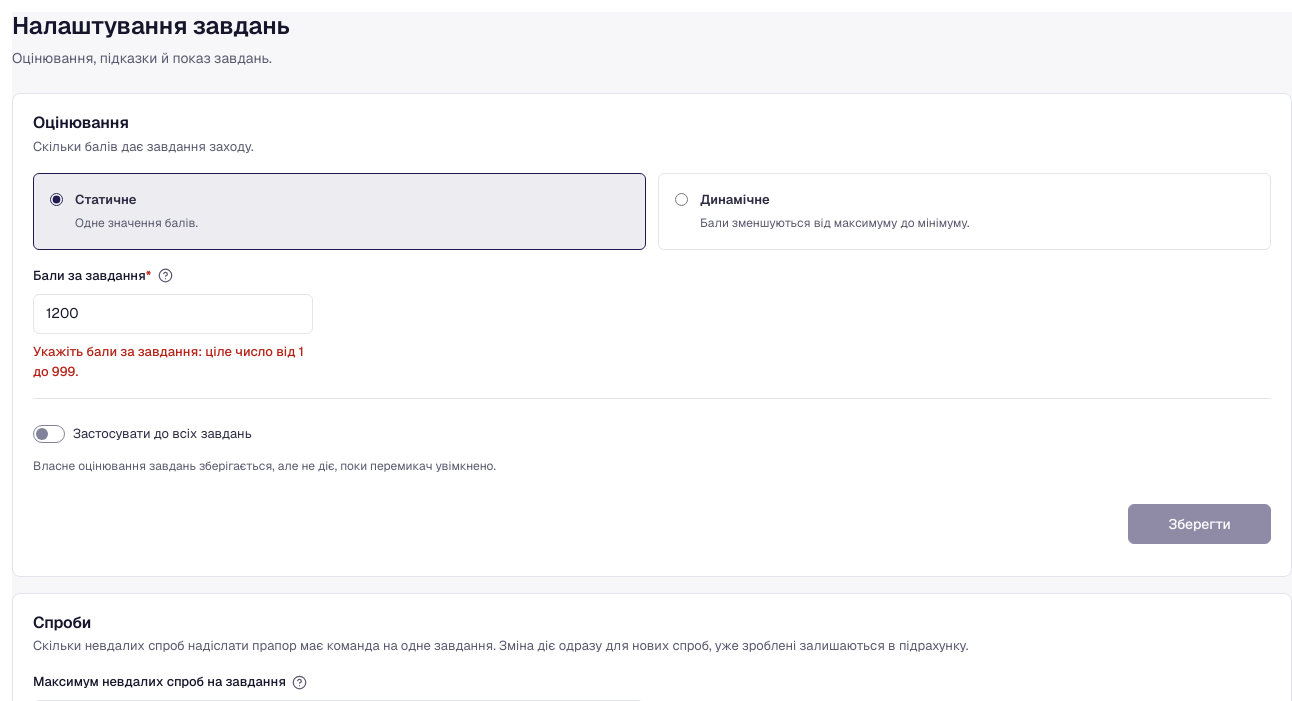
Test: per-task points ceiling in event defaults › preserves a saved value above 999, validates beside the field and refuses submission
Replace the text in the number field labelled "Бали за завдання*" with "1000" at (173, 314), box x1=33 y1=294 x2=313 y2=334
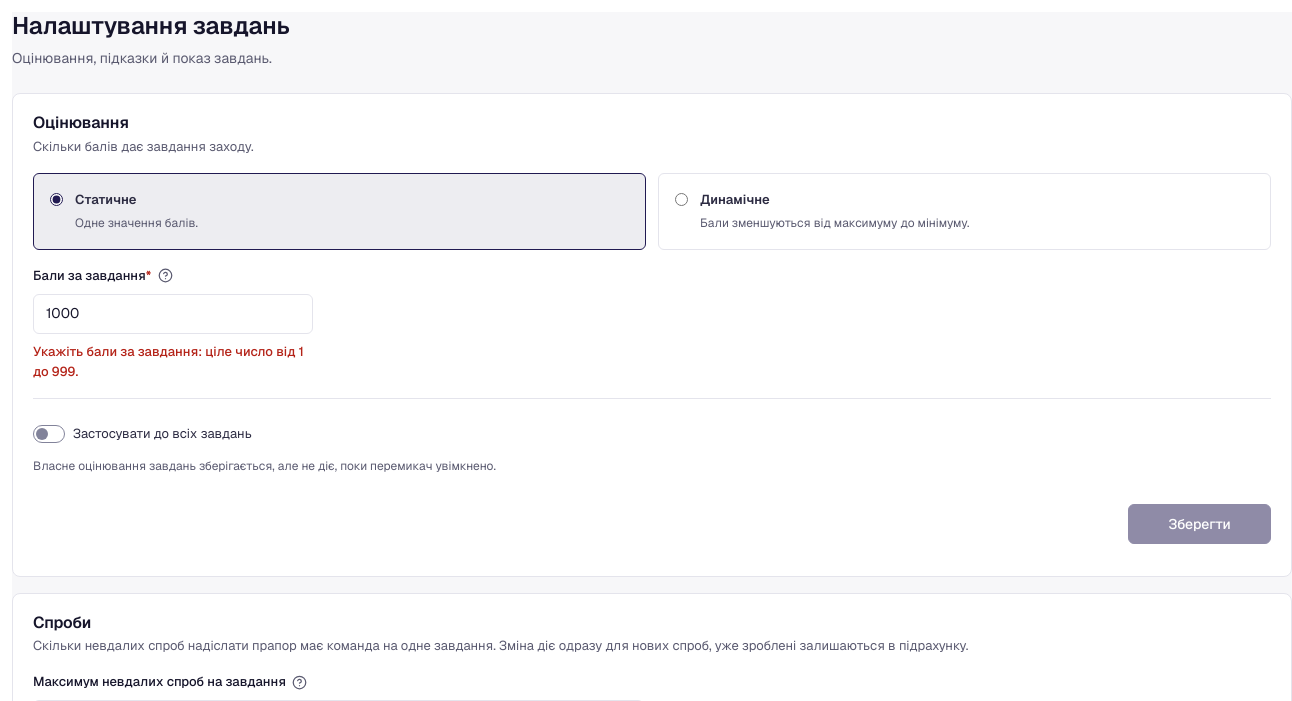
Expected: the message with id "static-points-error" shows "від 1 до 999", x1=33 y1=343 x2=304 y2=380
Submit the form named "Бали за завдання"
Replace the text in the number field labelled "Бали за завдання*" with "999" at (173, 314), box x1=33 y1=294 x2=313 y2=334
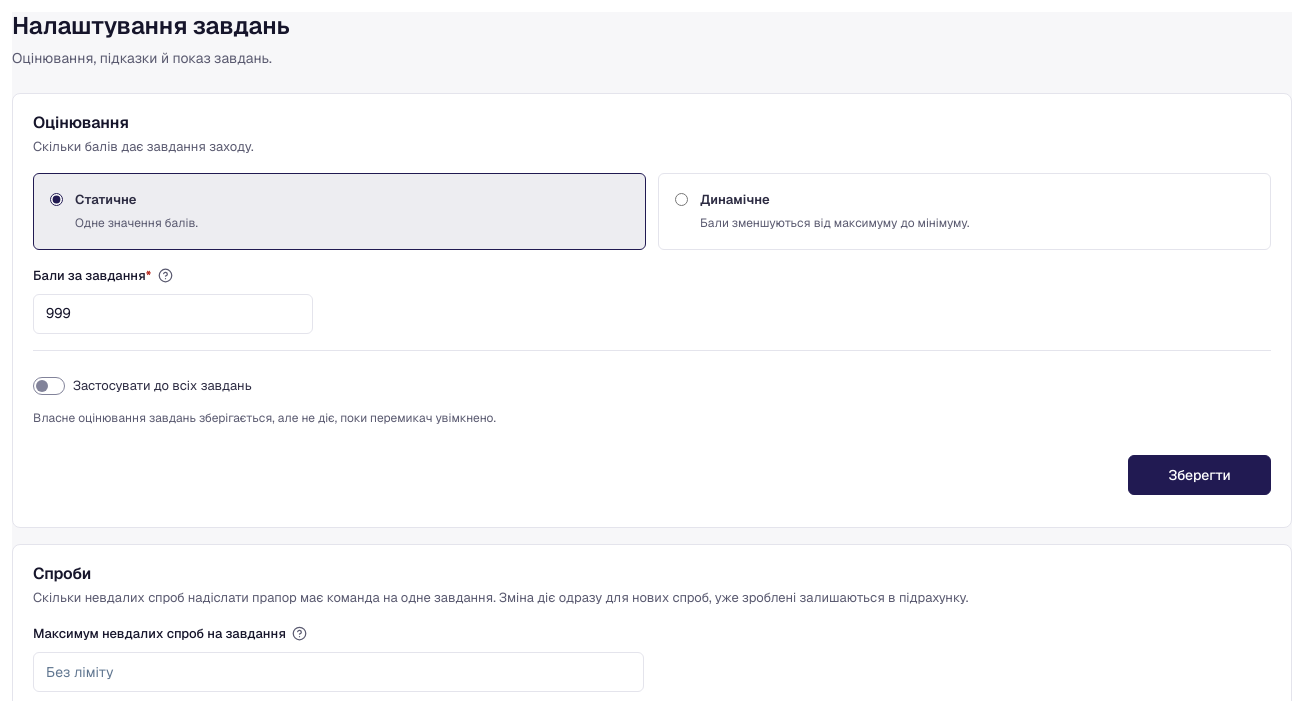
Expected: the submit button is enabled, x1=1128 y1=455 x2=1271 y2=495
